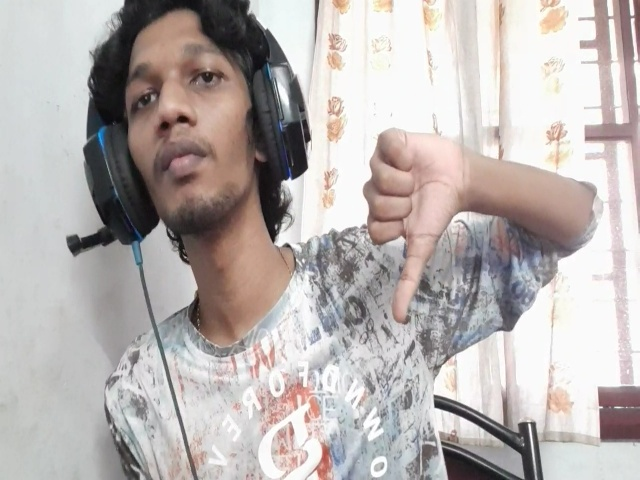ThumbsDown: (364, 127, 465, 323)
